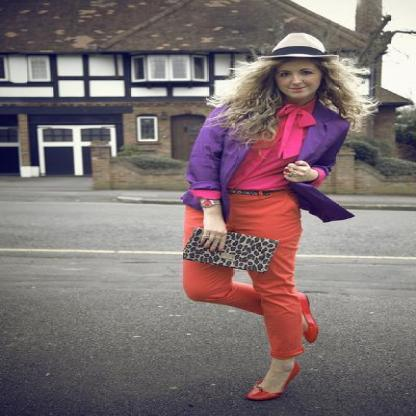bag: (182, 227, 277, 269)
hat: (272, 32, 336, 62)
jacket: (162, 107, 355, 222)
pants: (183, 189, 317, 359)
shirt: (189, 103, 311, 200)
shoe: (249, 324, 319, 398)
